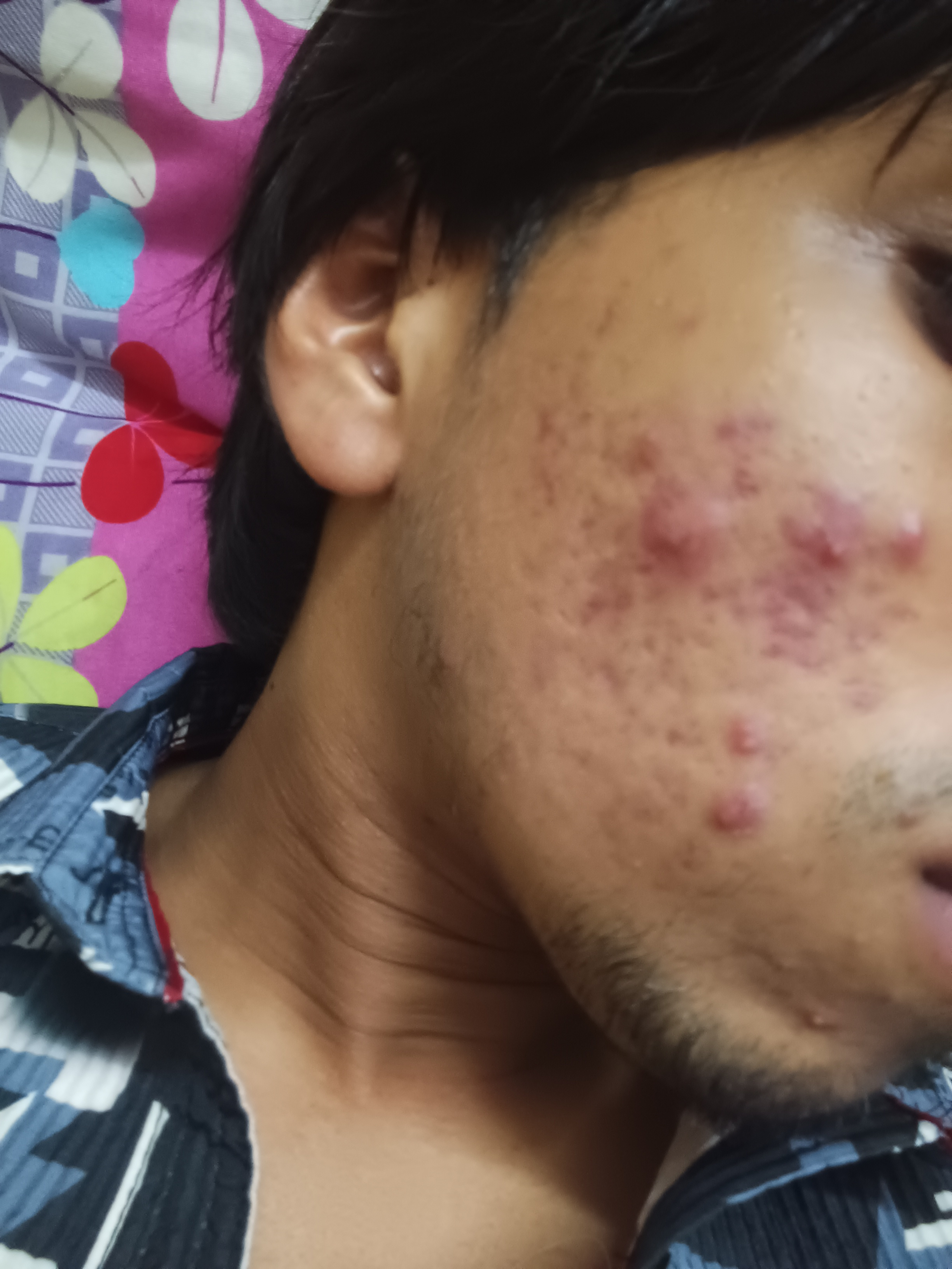nodule: (891, 511, 941, 559)
papule: (706, 791, 755, 844), (653, 518, 698, 558), (818, 537, 851, 575), (731, 725, 766, 759)
pustule: (799, 1000, 846, 1044)
